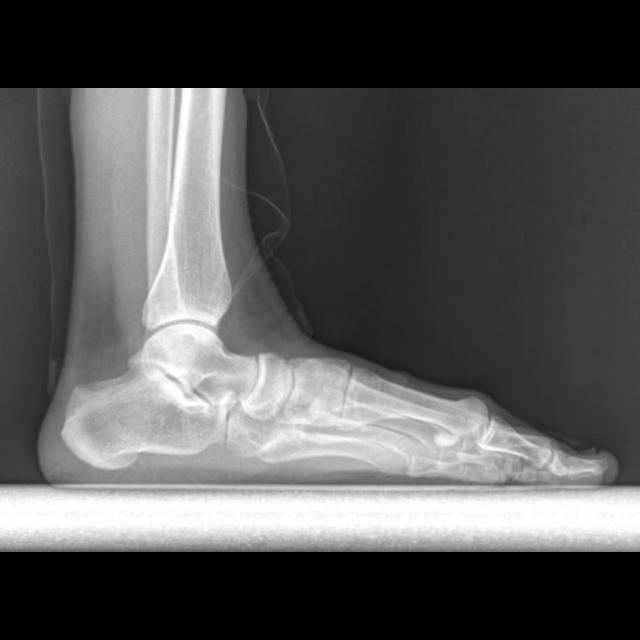a: (61, 353, 238, 469)
b: (240, 353, 294, 421)
c: (340, 367, 490, 448)
